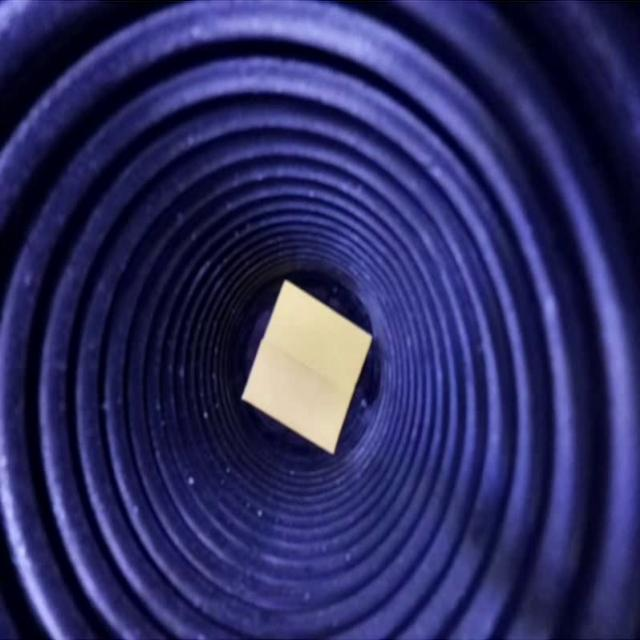obstacles: (240, 272, 369, 461)
